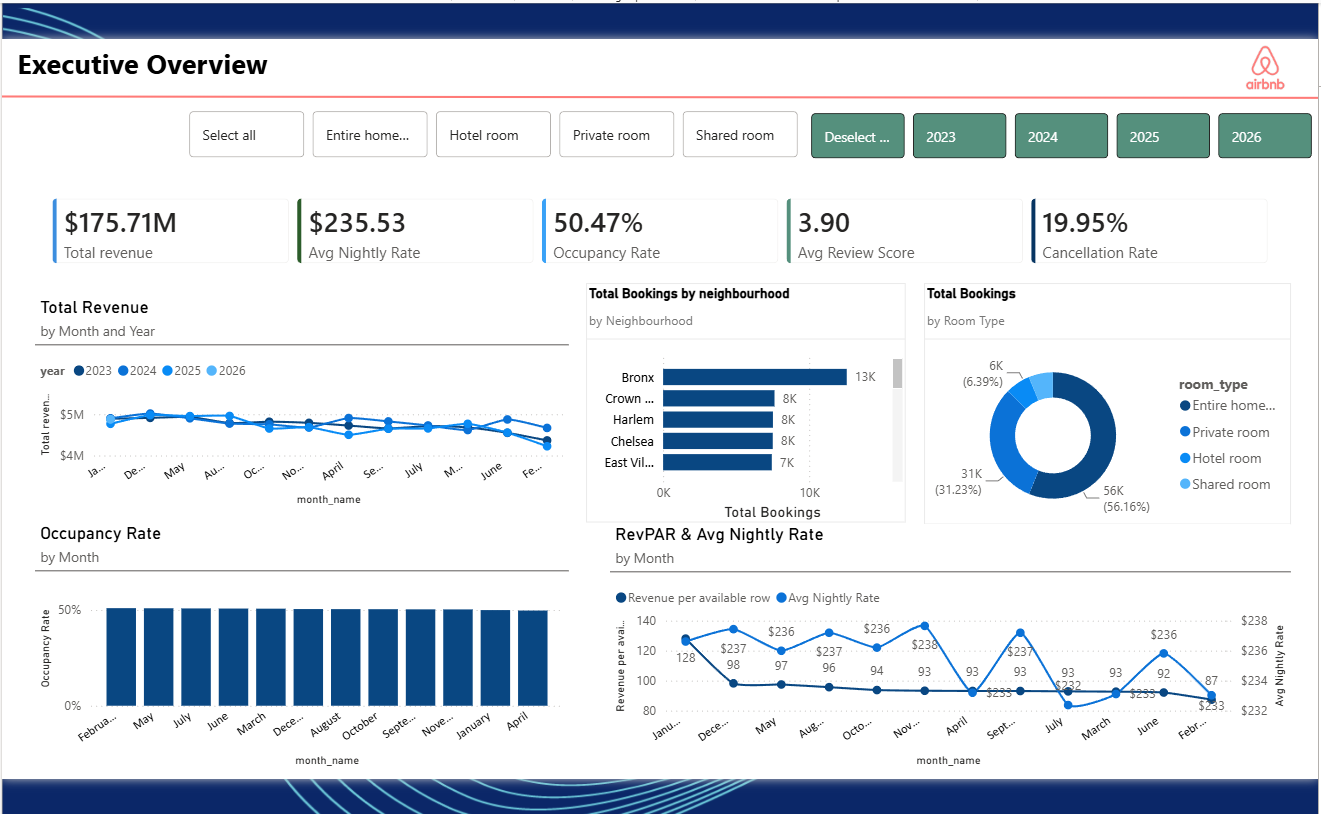

The dashboard page shown, as its layout file describes it:
{"tool":"powerbi","page":{"name":"Executive Overview","canvas":[1280,720],"ordinal":0},"visuals":[{"type":"shape","box":[23.9,250,526.1,220.5],"z":0},{"type":"shape","box":[23.9,483,526.1,215.9],"z":1000},{"type":"shape","box":[591.4,471.6,670.4,239.5],"z":2000},{"type":"shape","box":[567.9,237,311.1,233.3],"z":3000},{"type":"shape","box":[879,237,381.5,233.3],"z":4000},{"type":"shape","box":[23.9,129.5,1237.5,106.8],"z":5000},{"type":"shape","box":[10.2,8,368.2,43.2],"z":6000},{"type":"advancedSlicerVisual","fields":{"Values":["dim_date.year"]},"box":[781.8,67,497.7,54.5],"z":7000},{"type":"advancedSlicerVisual","fields":{"Values":["dim_property.room_type"]},"box":[177.1,65.6,605.2,55.2],"z":8000},{"type":"cardVisual","fields":{"Data":["Measure Table.Total revenue","Measure Table.Avg Nightly Rate","Measure Table.Occupancy Rate","Measure Table.Avg Review Score","Measure Table.Cancellation Rate"]},"box":[32,138,1220.5,97],"z":9000},{"type":"lineChart","title":"Total Revenue ","fields":{"Category":["dim_date.month_name"],"Y":["Measure Table.Total revenue"],"Series":["dim_date.year"]},"box":[32.1,250.6,518.5,206.2],"z":10000},{"type":"barChart","fields":{"Y":["Measure Table.Total Bookings"],"Category":["dim_location.neighbourhood"]},"box":[567.9,237,311.1,233.3],"z":11000},{"type":"donutChart","title":"Total Bookings","fields":{"Category":["dim_property.room_type"],"Y":["Measure Table.Total Bookings"]},"box":[896.3,237,356.8,234.6],"z":12000},{"type":"columnChart","title":"Occupancy Rate","fields":{"Y":["Measure Table.Occupancy Rate"],"Category":["dim_date.month_name"]},"box":[32.1,470.4,518.5,240.7],"z":13000},{"type":"lineChart","title":"RevPAR & Avg Nightly Rate","fields":{"Category":["dim_date.month_name"],"Y":["Measure Table.Revenue per available row"],"Y2":["Measure Table.Avg Nightly Rate"]},"box":[591.4,471.6,661.7,239.5],"z":14000},{"type":"textbox","box":[9.9,0,261.7,50.6],"z":15000}]}

Visuals, with their boxes on the page's 1280x720 design canvas (x1, y1, x2, y2). These are canvas units, not pixel positions in the 1321x814 screenshot, which may show the page scaled, cropped or inside an application window:
shape: [24,250,550,470]
shape: [24,483,550,699]
shape: [591,472,1262,711]
shape: [568,237,879,470]
shape: [879,237,1260,470]
shape: [24,130,1261,236]
shape: [10,8,378,51]
advancedSlicerVisual - dim_date.year: [782,67,1280,122]
advancedSlicerVisual - dim_property.room_type: [177,66,782,121]
cardVisual - Measure Table.Total revenue x Measure Table.Avg Nightly Rate: [32,138,1252,235]
"Total Revenue " lineChart: [32,251,551,457]
barChart - Measure Table.Total Bookings x dim_location.neighbourhood: [568,237,879,470]
"Total Bookings" donutChart: [896,237,1253,472]
"Occupancy Rate" columnChart: [32,470,551,711]
"RevPAR & Avg Nightly Rate" lineChart: [591,472,1253,711]
textbox: [10,0,272,51]
